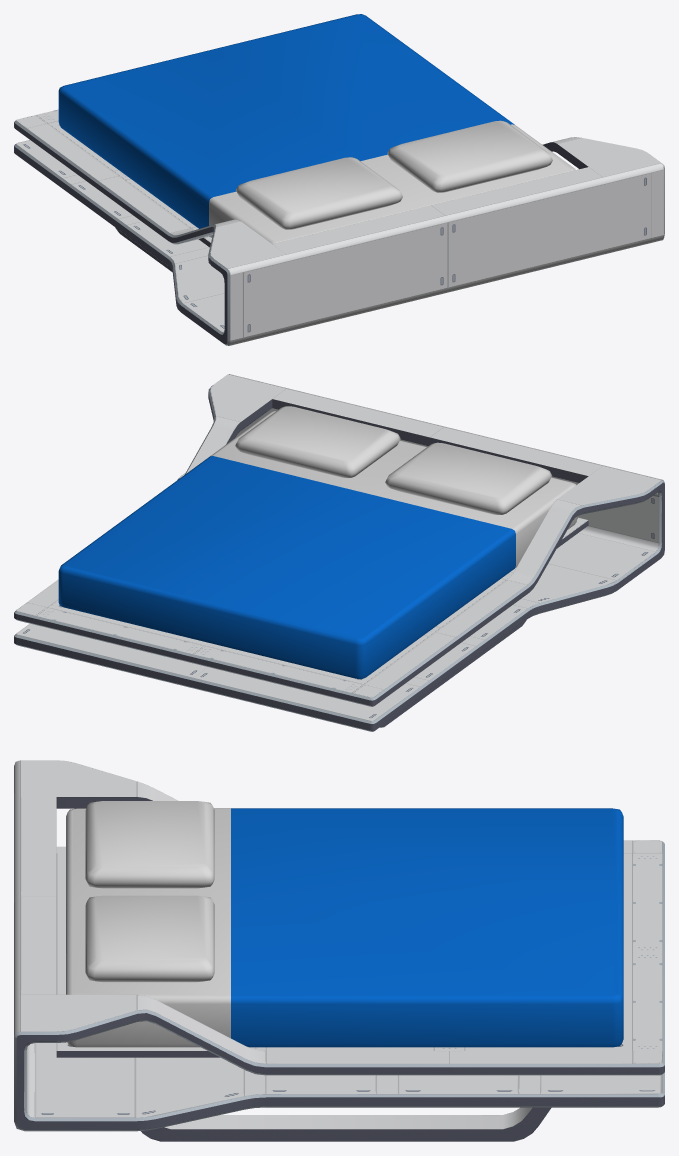
File: Bed_Large_01.FBX
3 views of the same model, one above another, from view 1: azimuth 30°, elevation 25°; view 2: azimuth 150°, elevation 25°; view 3: azimuth 270°, elevation 25° (orthographic). The views are drawn at different scales.
Visible parts, largest first — view 1: Bed_Large_01; view 2: Bed_Large_01; view 3: Bed_Large_01.
Boxes of the visible parts, box(x1,y1,x2,y2) form: Bed_Large_01: box(14, 14, 664, 345); Bed_Large_01: box(14, 374, 664, 731); Bed_Large_01: box(14, 760, 664, 1141).
Bounding box in the file's own units: 3.1 × 0.9377 × 3.12.
